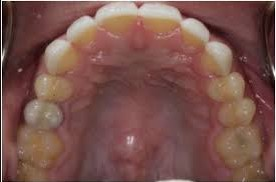UL1BC_healthy: (212, 75, 245, 101)
UL1M_healthy: (221, 124, 266, 163)
UL2BC_healthy: (221, 100, 257, 124)
ULCI_healthy: (141, 2, 180, 35)
ULC_healthy: (205, 41, 234, 78)
ULLI_healthy: (182, 18, 209, 50)
UR1BC_healthy: (35, 73, 74, 103)
UR1M_healthy: (16, 128, 66, 168)
UR2BC_healthy: (25, 100, 65, 127)
URCI_healthy: (96, 2, 139, 34)
URC_healthy: (45, 41, 77, 70)
URLI_healthy: (67, 16, 96, 42)
